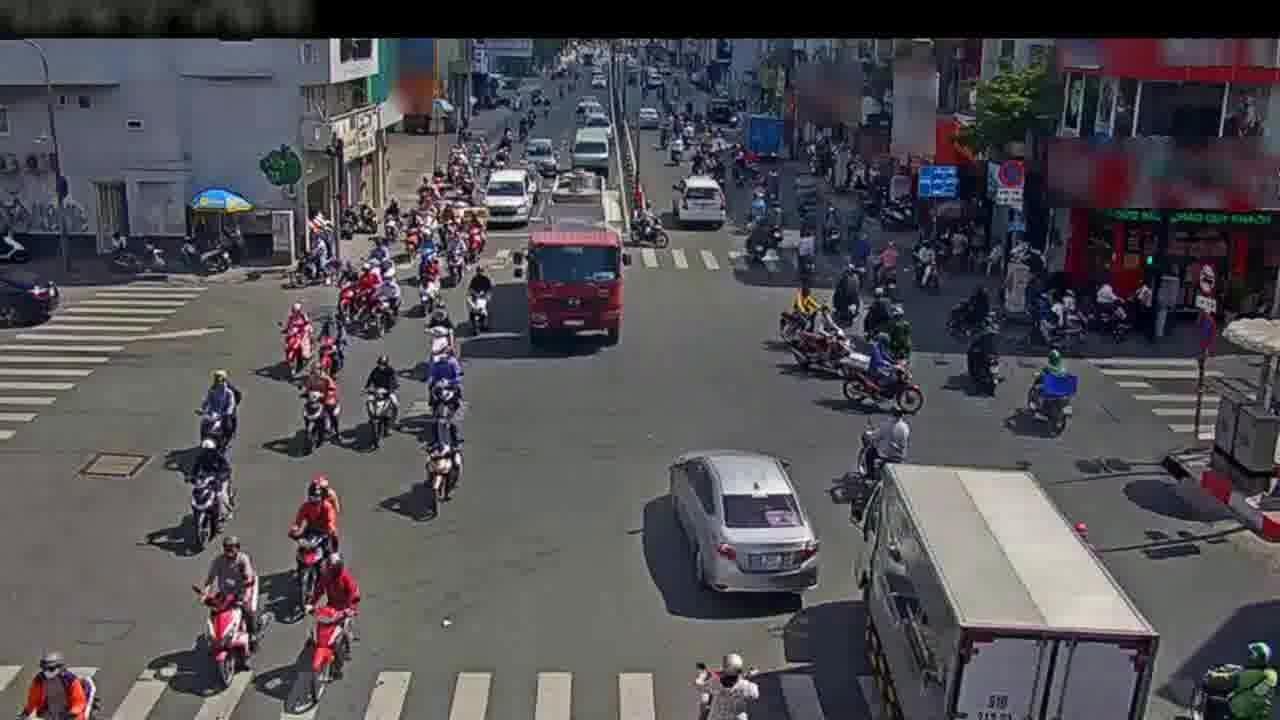8: (856, 465, 1156, 720), (520, 176, 629, 352)
container: (679, 452, 809, 601), (4, 265, 61, 321), (483, 164, 531, 230), (677, 174, 728, 236)
motorbike: (197, 535, 256, 677), (307, 543, 358, 688), (831, 334, 920, 413), (287, 472, 341, 597), (1189, 646, 1279, 720), (181, 434, 231, 553), (690, 645, 757, 720), (424, 396, 462, 517), (857, 404, 911, 483), (194, 366, 237, 465), (295, 357, 338, 454), (1025, 354, 1077, 434), (362, 345, 400, 447), (792, 312, 850, 371), (427, 334, 461, 434), (964, 314, 1003, 397), (4, 265, 61, 321), (946, 290, 1005, 343), (1029, 292, 1077, 356), (777, 286, 823, 351), (276, 302, 312, 384), (365, 263, 400, 343), (827, 259, 864, 333), (291, 233, 336, 291), (316, 307, 349, 379), (465, 255, 491, 341), (628, 198, 670, 251), (420, 264, 448, 342), (457, 206, 486, 280), (908, 233, 940, 298), (412, 226, 439, 302), (868, 234, 901, 296), (877, 310, 912, 365), (333, 263, 362, 321), (744, 216, 771, 268), (867, 285, 890, 333), (799, 232, 818, 282), (821, 204, 841, 248)
